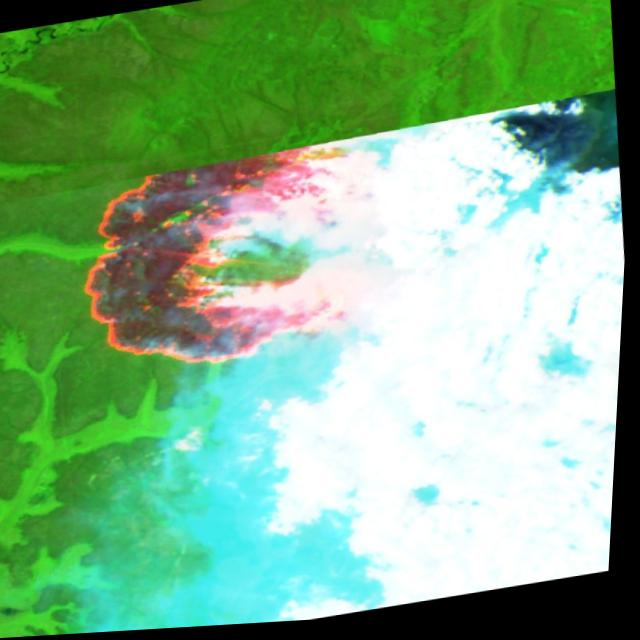fire: (61, 133, 409, 394)
